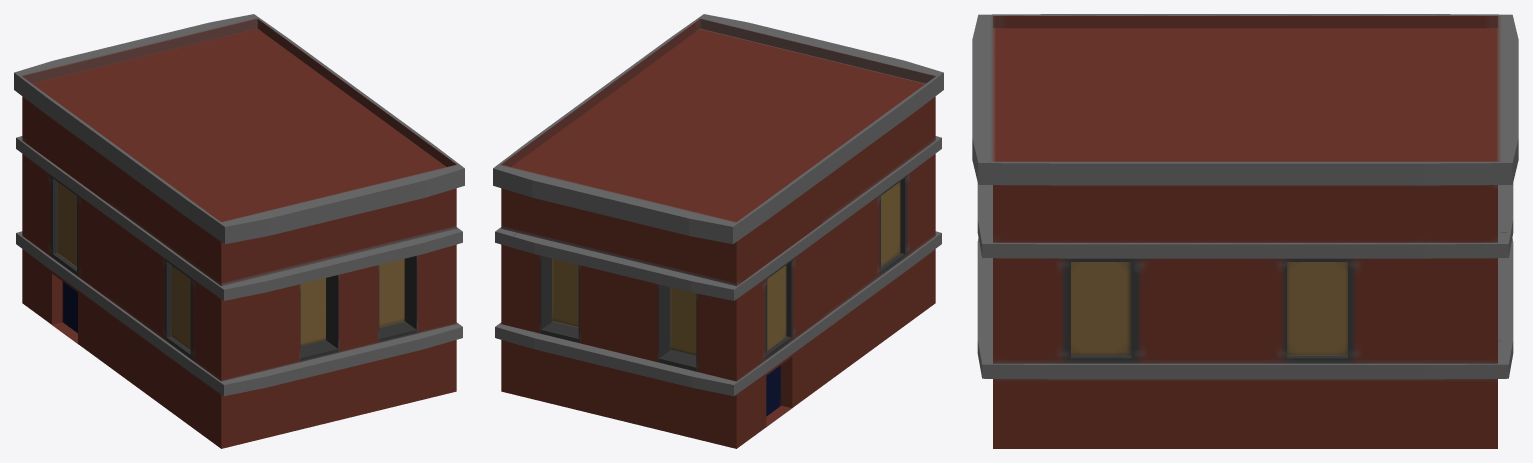
The model's file is WarehouseOutside.glb.
3 renders of one model, left to right at view 1: azimuth 30°, elevation 25°; view 2: azimuth 150°, elevation 25°; view 3: azimuth 270°, elevation 25°, orthographic. The views are drawn at different scales.
Visible parts, largest first — view 1: House; view 2: House; view 3: House.
Boxes of the visible parts, x1,y1,x2,y2 form: House: [14, 14, 464, 448]; House: [493, 14, 943, 448]; House: [972, 14, 1518, 448].
Size of the model in its own units: 11.71 by 10.5 by 18.08.
1 material, 1 textured.
